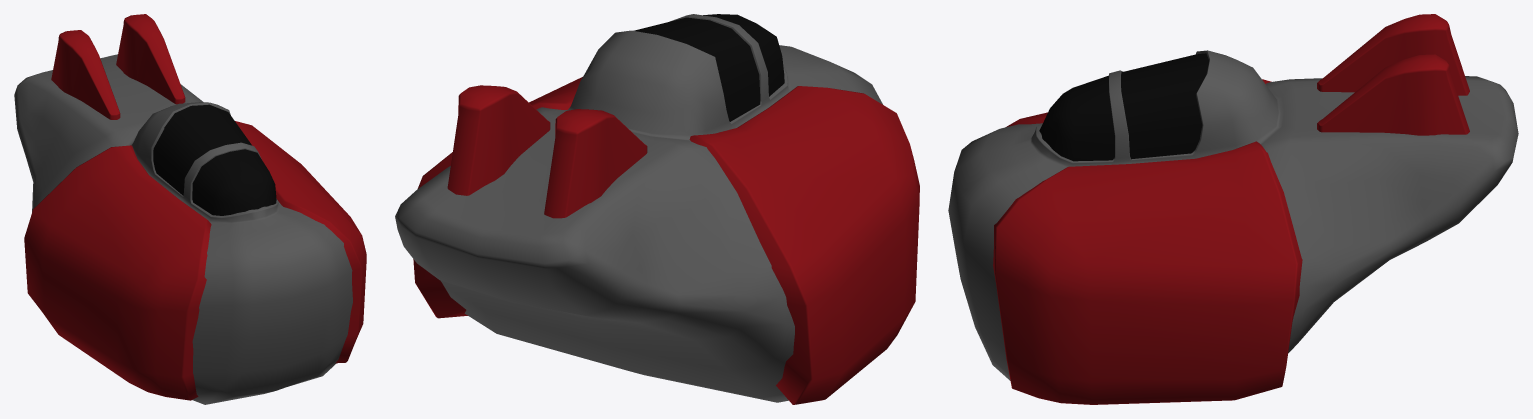
The model's file is Ship_enemy_07_Hull.fbx.
The picture shows the model from 3 angles, left to right: view 1: azimuth 30°, elevation 25°; view 2: azimuth 150°, elevation 25°; view 3: azimuth 270°, elevation 25°; orthographic projection. The views are drawn at different scales.
Parts seen in each view (by area): view 1: Ship_enemy_07_Hull; view 2: Ship_enemy_07_Hull; view 3: Ship_enemy_07_Hull.
Part boxes in pixels (x1=…): Ship_enemy_07_Hull: x1=14, y1=14, x2=366, y2=404; Ship_enemy_07_Hull: x1=395, y1=14, x2=919, y2=404; Ship_enemy_07_Hull: x1=948, y1=14, x2=1518, y2=404.
Bounding box in the file's own units: 336 × 299 × 481.
